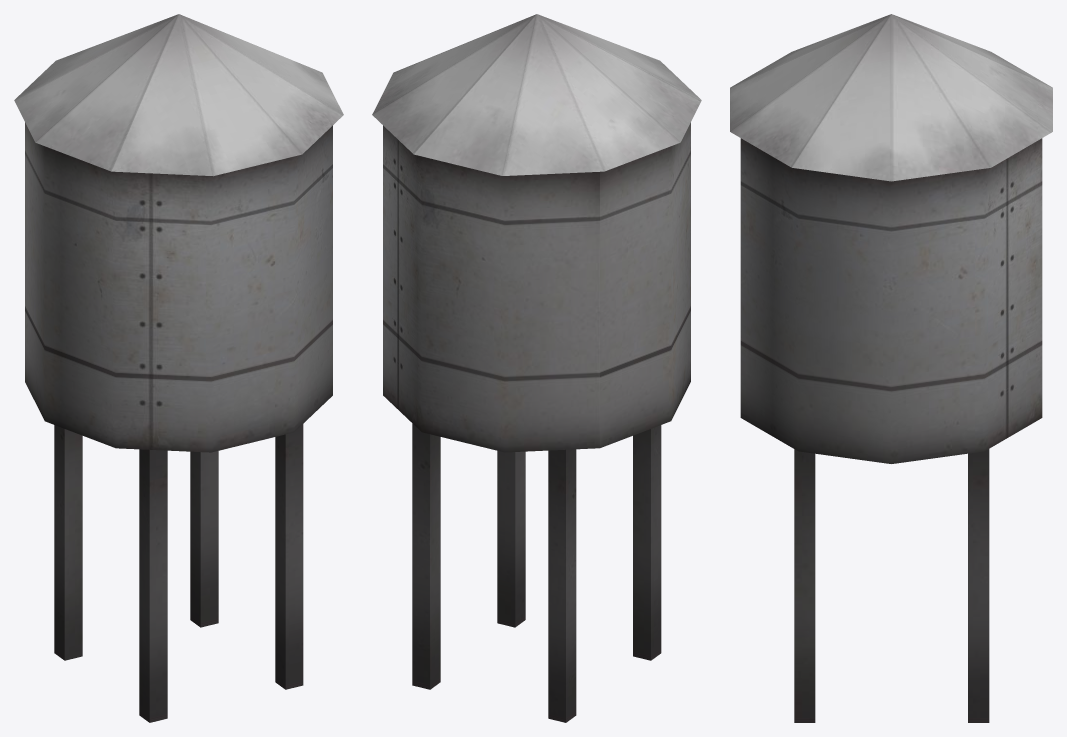
The model's file is Water tower.FBX.
3 views of the same model, side by side, from view 1: azimuth 30°, elevation 25°; view 2: azimuth 150°, elevation 25°; view 3: azimuth 270°, elevation 25° (orthographic). The views are drawn at different scales.
Parts seen in each view (by area): view 1: Water tower; view 2: Water tower; view 3: Water tower.
Boxes of the visible parts, x1,y1,x2,y2 form: Water tower: (14,14,343,722); Water tower: (372,14,701,722); Water tower: (730,14,1052,722).
Size of the model in its own units: 32.1 by 70 by 30.53.
Materials: 1 (1 with a texture image).
